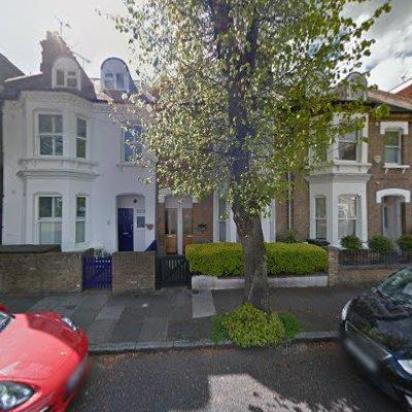stationary-car-onstreet: (336, 257, 410, 411), (0, 294, 90, 410)
